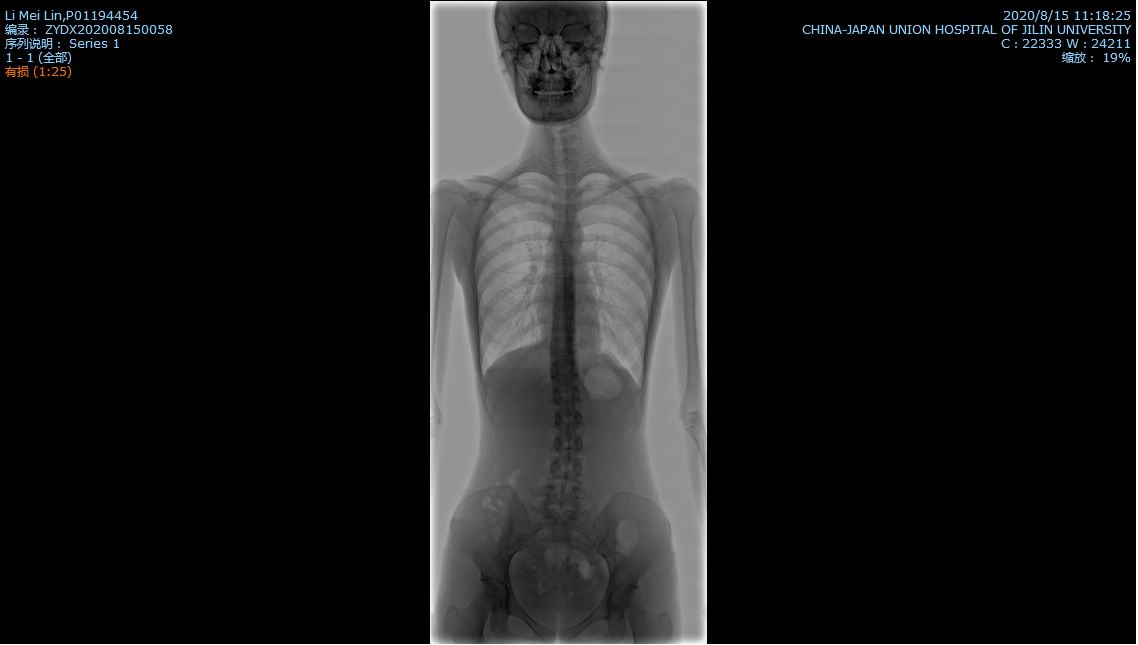胸10椎体: (551, 317, 574, 331)
胸11椎体: (549, 337, 575, 355)
胸12椎体: (549, 363, 578, 379)
胸7椎体: (554, 259, 574, 274)
胸8椎体: (554, 278, 576, 292)
胸9椎体: (554, 296, 575, 312)
腰1椎体: (551, 387, 578, 404)
腰2椎体: (555, 412, 581, 428)
腰3椎体: (552, 434, 582, 451)
腰4椎体: (549, 458, 583, 482)
腰5椎体: (546, 489, 581, 508)
